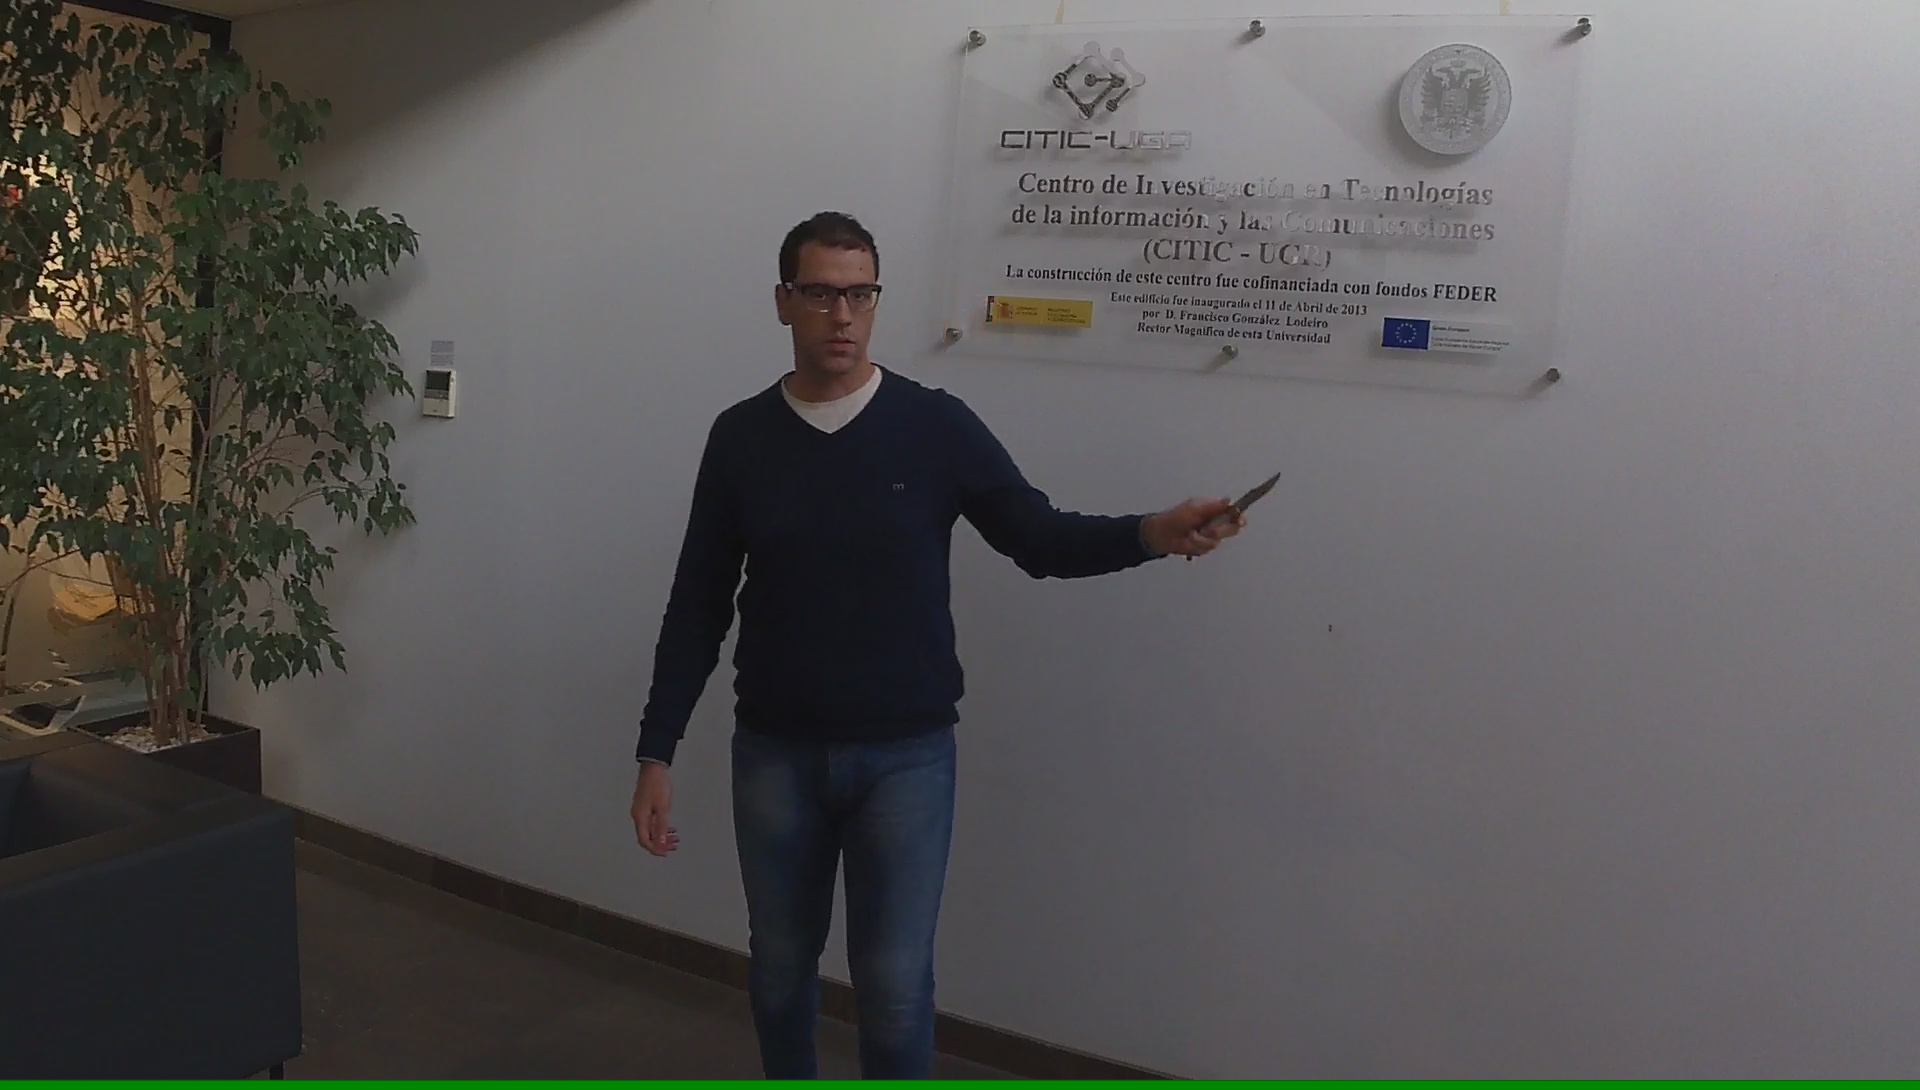knife: (1178, 460, 1291, 572)
